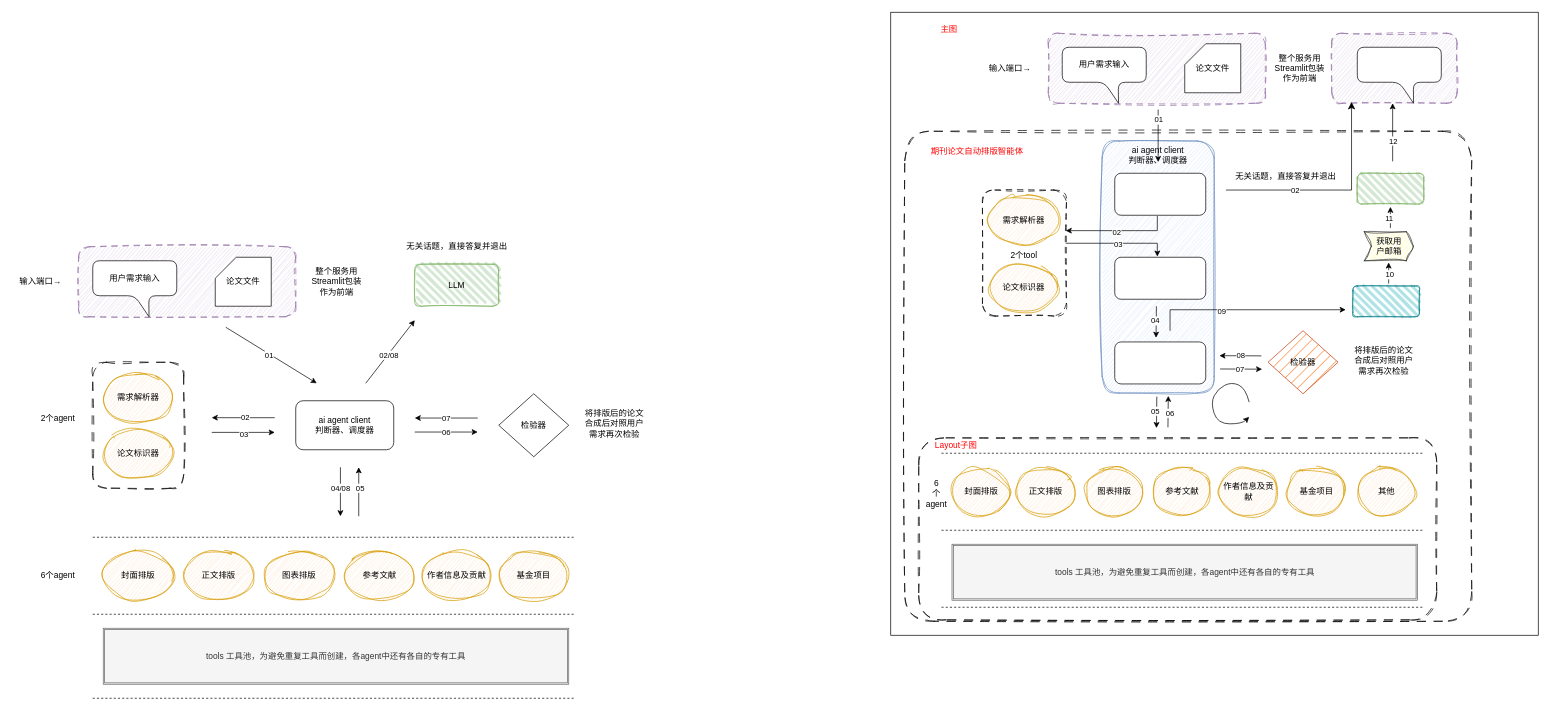
This 1551x711 diagram has some shape labels left out. The shapes that lost their labels are listed below. From the top down, each one's box as (x1, y1, x2, y2) in pixels, then its label:
(1357, 47, 1441, 103): 输入端口
(1114, 173, 1206, 215): agent任务范围判断
(1357, 173, 1424, 204): 发送邮件
(1114, 257, 1206, 299): 解析器结果判断
(1352, 285, 1419, 317): 拼装和生成
(1114, 341, 1206, 384): 排版分发判断
